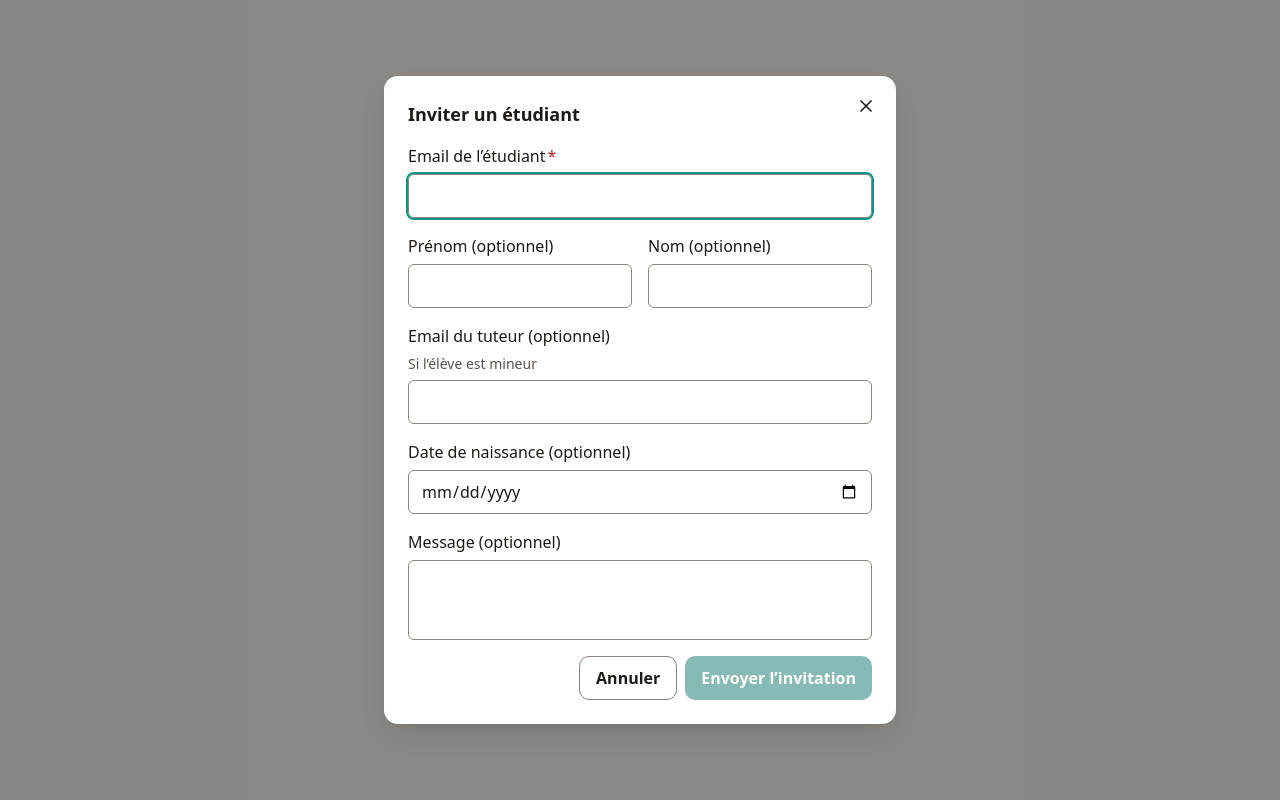
InviteStudentDialog › 409 INVITATION_PENDING is a field error on the email
This screenshot has width=1280, height=800.
Type "nour@example.com" into the field labelled "Email de l’étudiant" at {"x": 640, "y": 196}, box [408, 174, 872, 218]
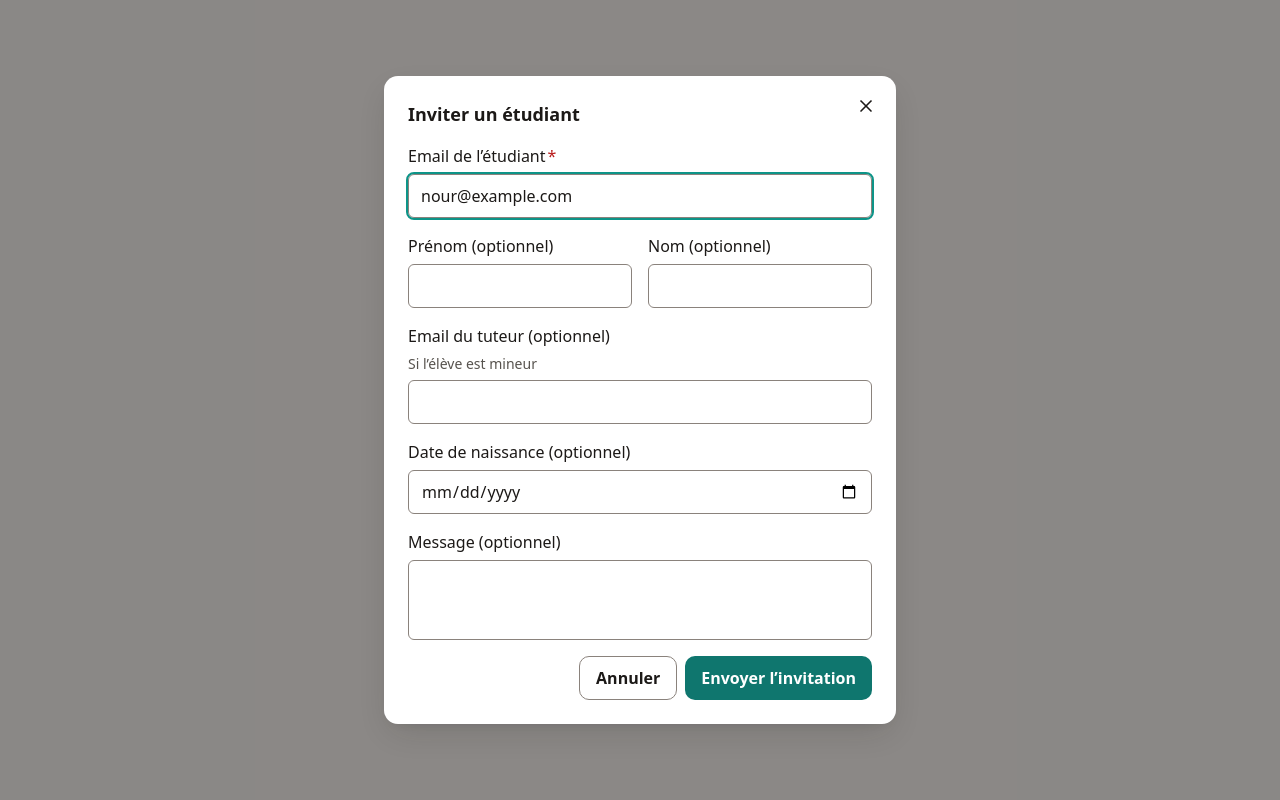
Click the button "Envoyer l’invitation" at {"x": 779, "y": 678}, box [685, 656, 872, 700]
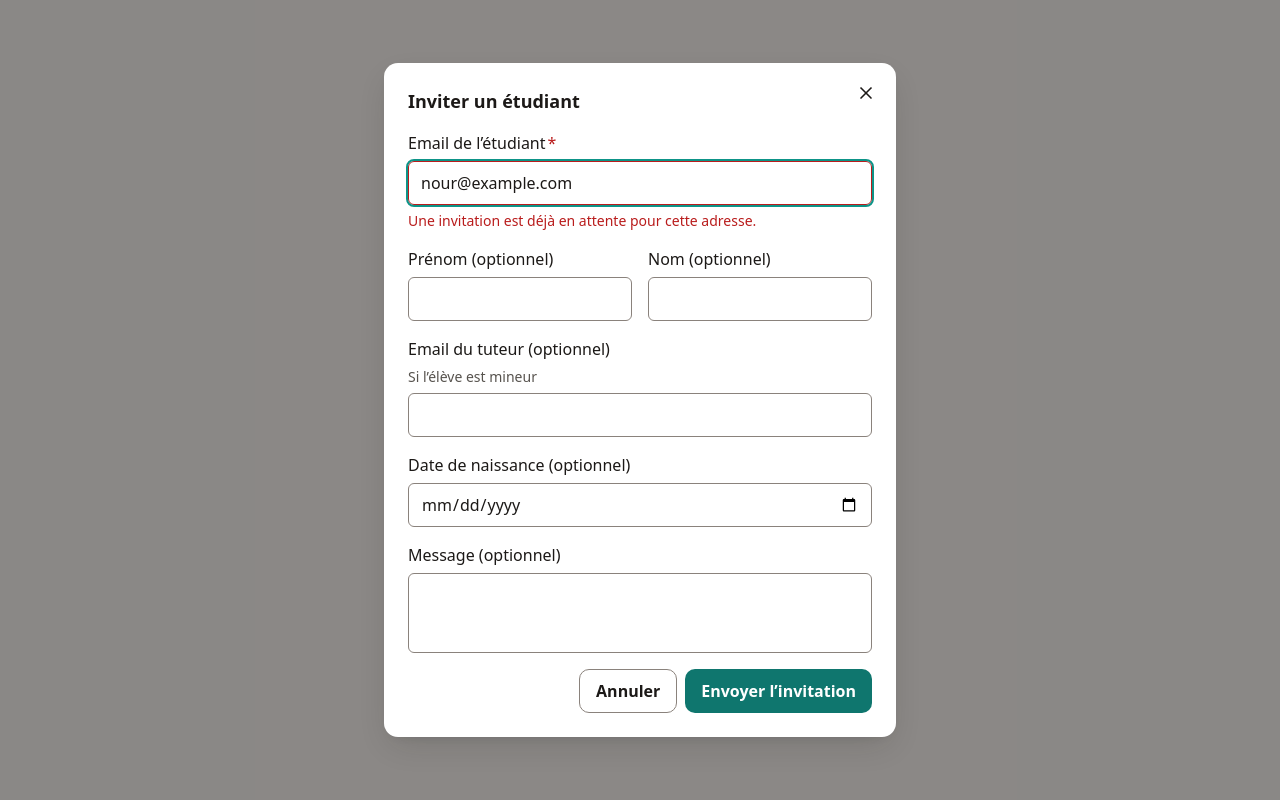
Expected: the text "Une invitation est déjà en attente pour cette adresse." is shown, [408, 211, 756, 230]
